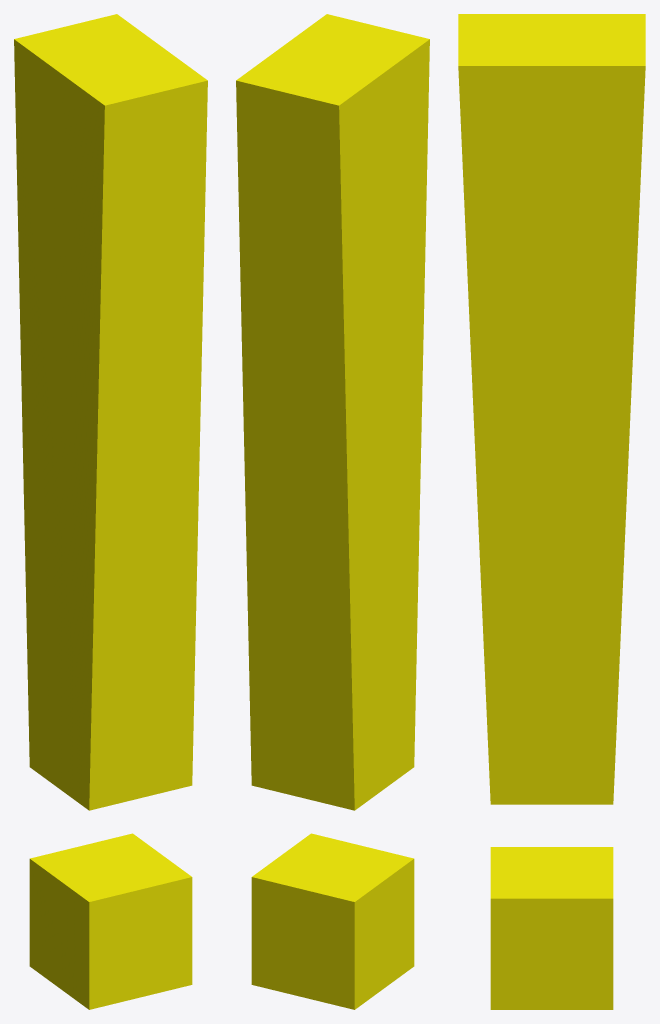
Rendered from Exclaim.glb.
3 renders of one model, left to right at view 1: azimuth 30°, elevation 25°; view 2: azimuth 150°, elevation 25°; view 3: azimuth 270°, elevation 25°, orthographic. The views are drawn at different scales.
Visible parts, largest first — view 1: Cube; view 2: Cube; view 3: Cube.
Part boxes in pixels (left/top/right/bottom): Cube: left=14, top=14, right=207, bottom=1009; Cube: left=236, top=14, right=429, bottom=1009; Cube: left=458, top=14, right=645, bottom=1009.
Bounding box in the file's own units: 0.2 × 1.7 × 0.3055.
